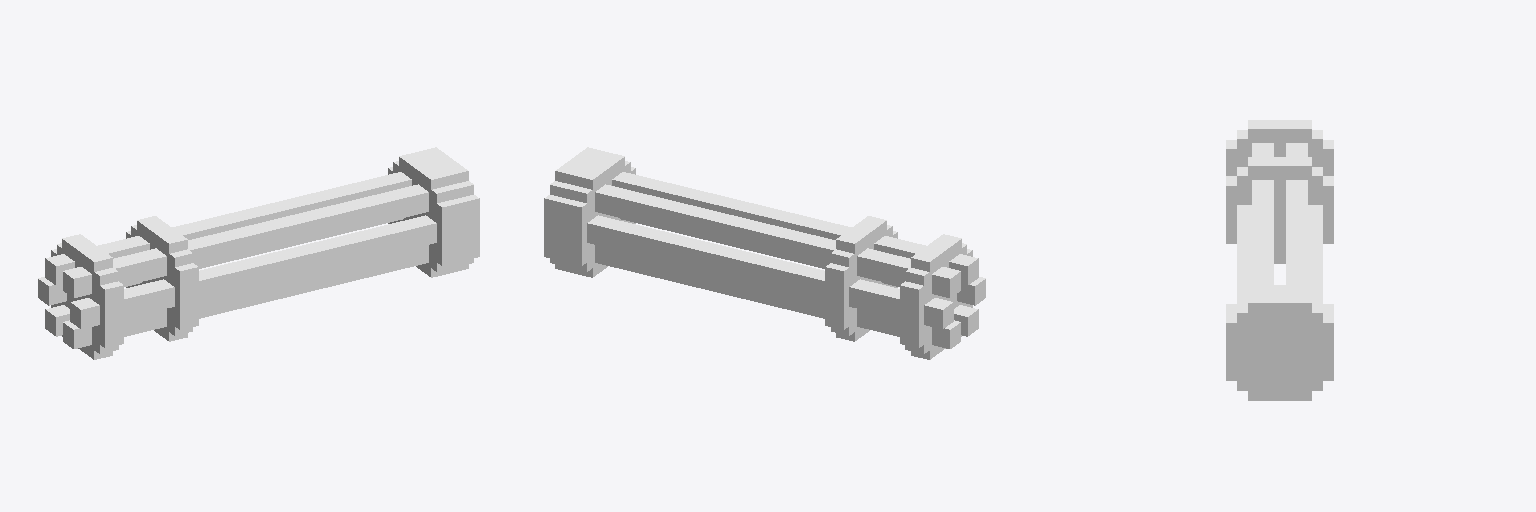
File: minigun_barrel.obj
3 views of the same model, side by side, from view 1: azimuth 30°, elevation 25°; view 2: azimuth 150°, elevation 25°; view 3: azimuth 270°, elevation 25° (orthographic).
Visible parts, largest first — view 1: Shape16, Shape15, Shape18, Shape14, Shape12, Shape13, Shape34, Shape30, Shape31, Shape11, Shape33, Shape29 (+3 smaller); view 2: Shape17, Shape14, Shape19, Shape15, Shape12, Shape13, Shape34, Shape30, Shape11, Shape31, Shape33, Shape29 (+3 smaller); view 3: Shape11, Shape13, Shape12, Shape14, Shape15, Shape33, Shape34, Shape31, Shape16, Shape17, Shape29, Shape32 (+1 smaller).
Part boxes in pixels (bbox=[...]): Shape16: bbox=[70, 215, 436, 328]; Shape15: bbox=[63, 184, 428, 298]; Shape18: bbox=[63, 245, 428, 348]; Shape14: bbox=[45, 172, 411, 285]; Shape12: bbox=[388, 167, 479, 265]; Shape13: bbox=[399, 147, 468, 277]; Shape34: bbox=[126, 231, 198, 329]; Shape30: bbox=[51, 249, 123, 347]; Shape31: bbox=[62, 234, 112, 359]; Shape11: bbox=[393, 161, 473, 271]; Shape33: bbox=[137, 216, 187, 341]; Shape29: bbox=[57, 243, 118, 353]; Shape17: bbox=[587, 215, 953, 328]; Shape14: bbox=[595, 184, 960, 298]; Shape19: bbox=[595, 245, 960, 348]; Shape15: bbox=[612, 172, 978, 285]; Shape12: bbox=[544, 167, 635, 265]; Shape13: bbox=[555, 147, 624, 277]; Shape34: bbox=[825, 231, 897, 329]; Shape30: bbox=[900, 249, 972, 347]; Shape11: bbox=[550, 161, 630, 271]; Shape31: bbox=[911, 234, 961, 359]; Shape33: bbox=[836, 216, 886, 341]; Shape29: bbox=[905, 243, 966, 353]; Shape11: bbox=[1237, 294, 1322, 390]; Shape13: bbox=[1248, 285, 1311, 400]; Shape12: bbox=[1226, 304, 1333, 380]; Shape14: bbox=[1286, 143, 1307, 284]; Shape15: bbox=[1252, 143, 1273, 284]; Shape33: bbox=[1248, 157, 1311, 263]; Shape34: bbox=[1226, 176, 1333, 243]; Shape31: bbox=[1248, 120, 1311, 156]; Shape16: bbox=[1237, 205, 1251, 293]; Shape17: bbox=[1308, 205, 1322, 293]; Shape29: bbox=[1237, 130, 1322, 166]; Shape32: bbox=[1237, 167, 1322, 253].
Bounding box in the file's own units: 1.31 × 0.3125 × 0.3125.